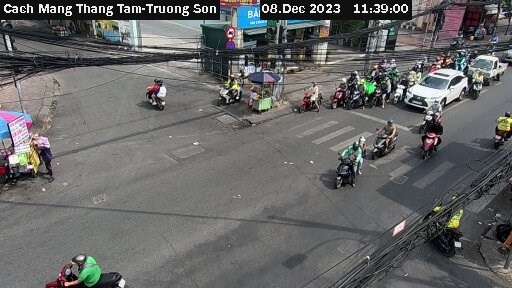car: (405, 65, 467, 112)
motorbike: (45, 249, 133, 288), (429, 198, 471, 253), (329, 143, 368, 189), (137, 78, 181, 112), (368, 120, 406, 159), (412, 118, 451, 154), (207, 75, 247, 107), (487, 111, 512, 150), (301, 81, 326, 117), (350, 83, 379, 110), (330, 80, 353, 109), (387, 73, 408, 102), (469, 72, 487, 97)
truck: (468, 50, 508, 85)
